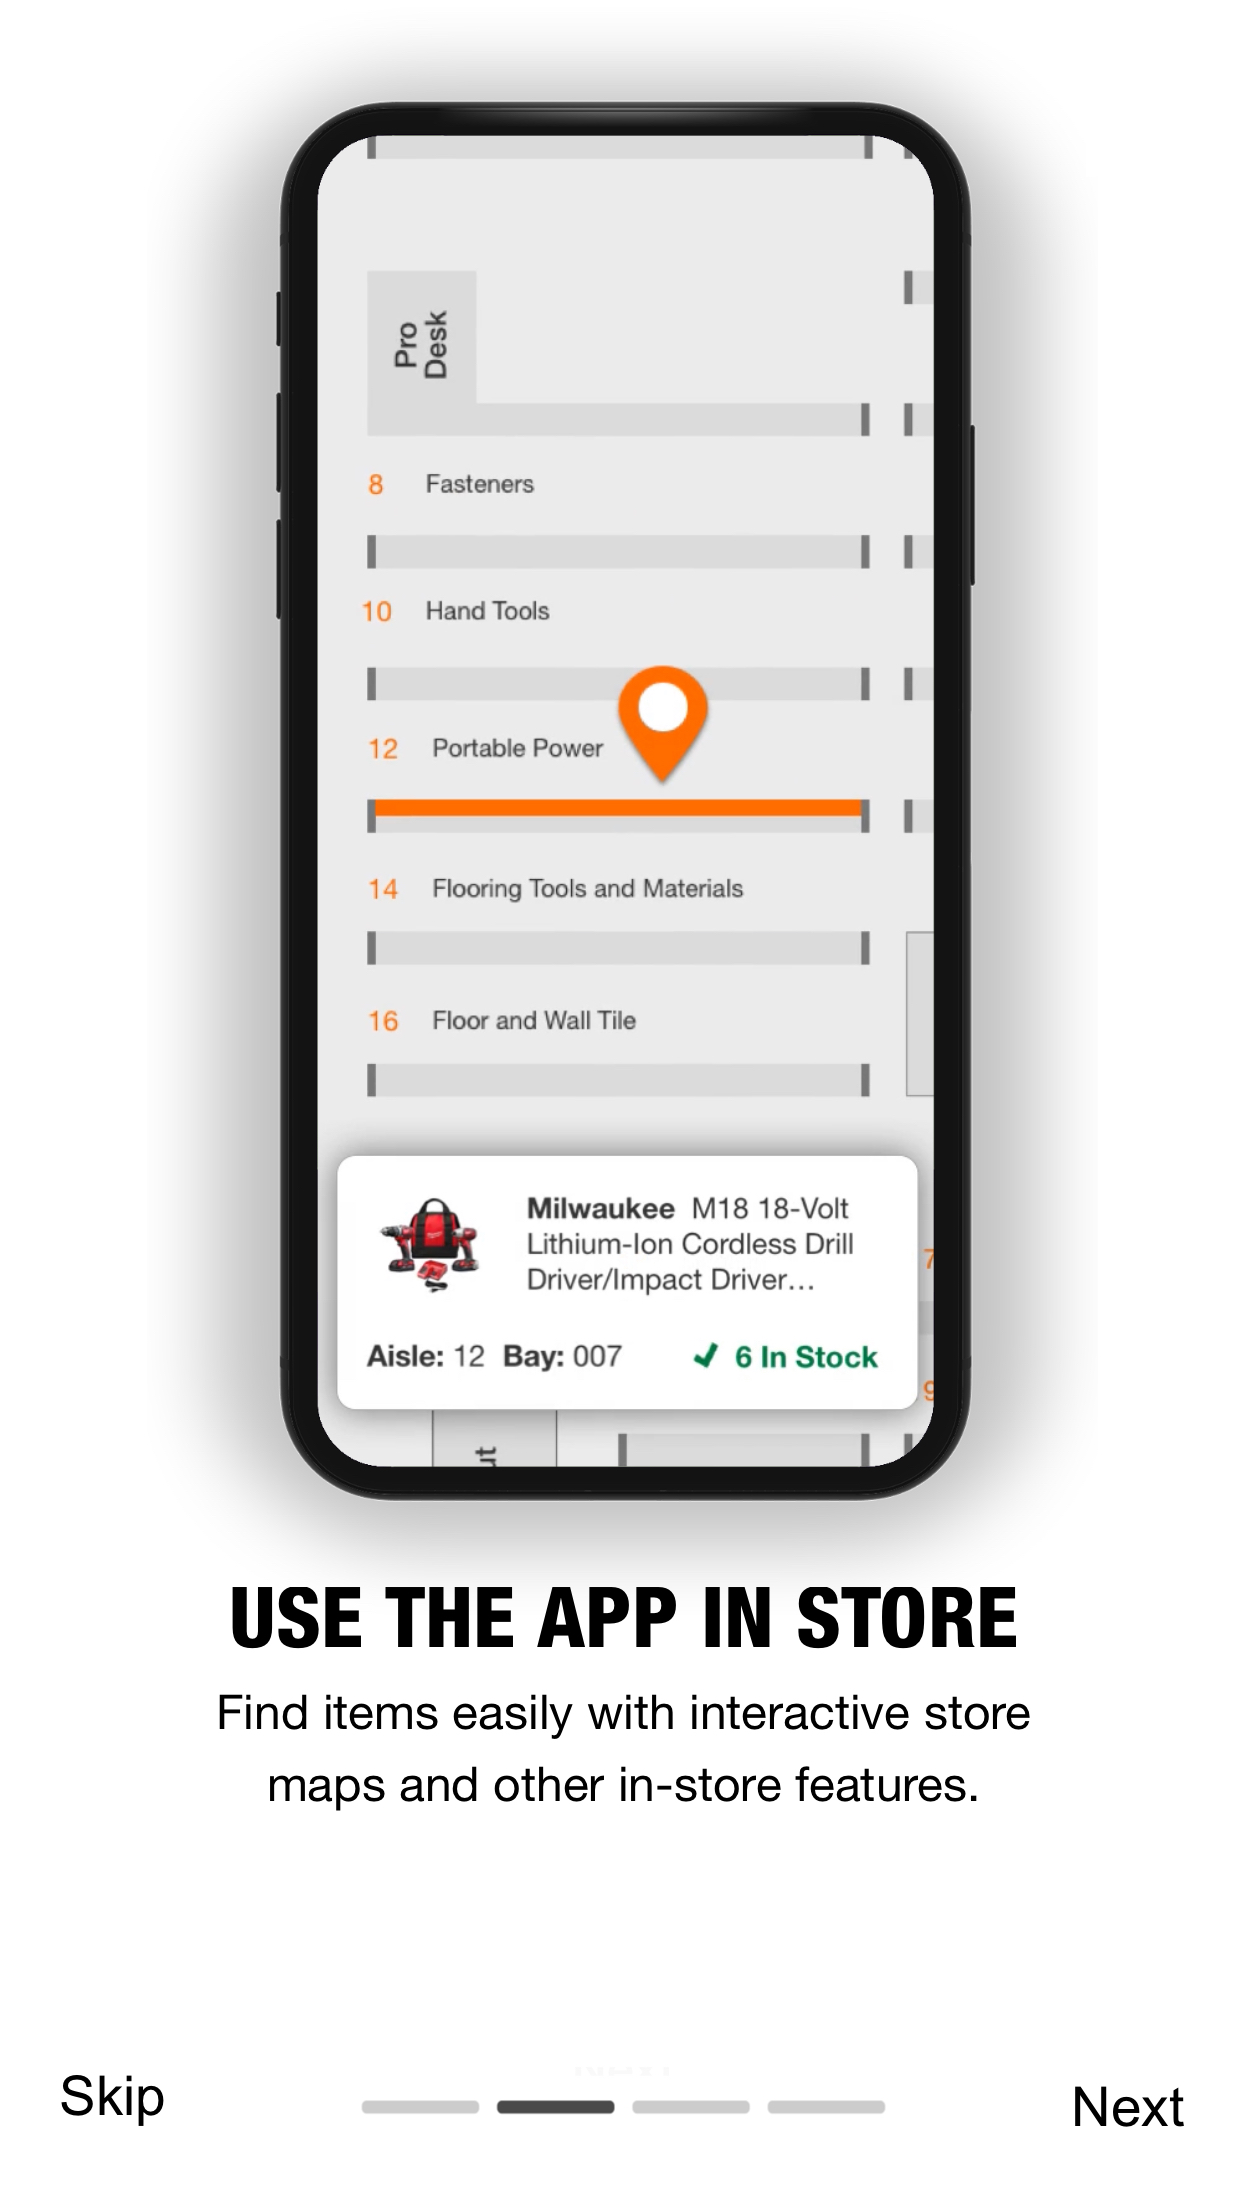Image: (271, 103, 975, 1501)
PageIndicator: (361, 2099, 886, 2114)
Text: (218, 1692, 1030, 1811), (232, 1586, 1016, 1648), (61, 2075, 165, 2126), (1074, 2085, 1184, 2128)
